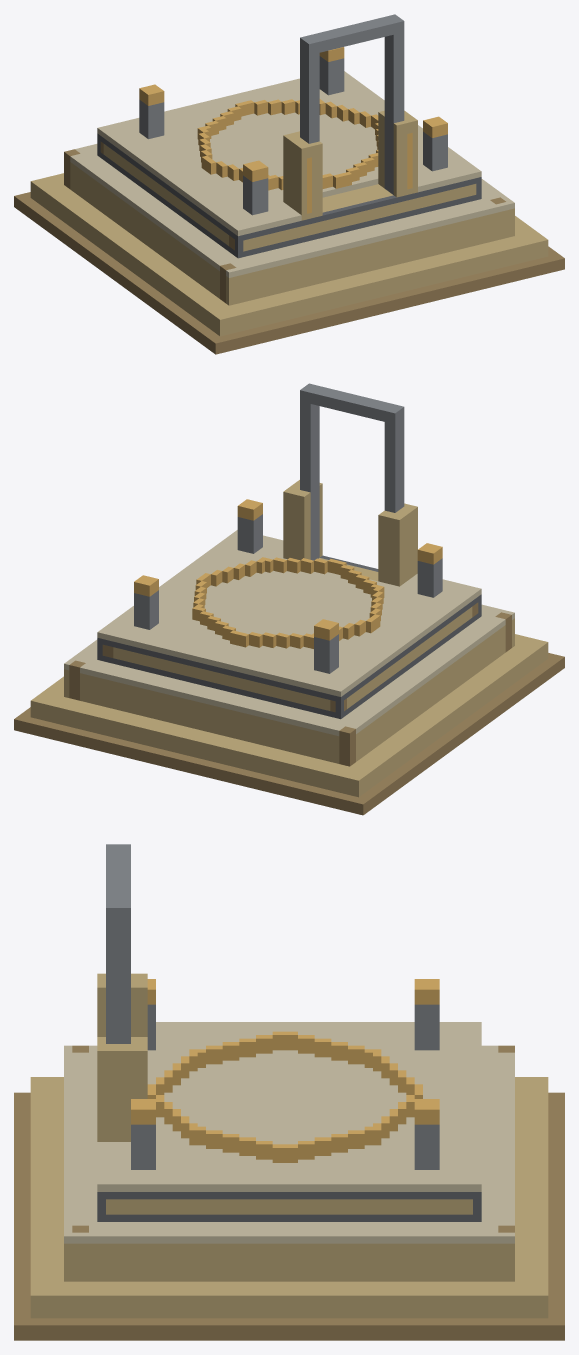
File: pad.glb
3 renders of one model, top to bottom at view 1: azimuth 30°, elevation 25°; view 2: azimuth 150°, elevation 25°; view 3: azimuth 270°, elevation 25°, orthographic. The views are drawn at different scales.
Bounding box in the file's own units: 66 × 46 × 66.
